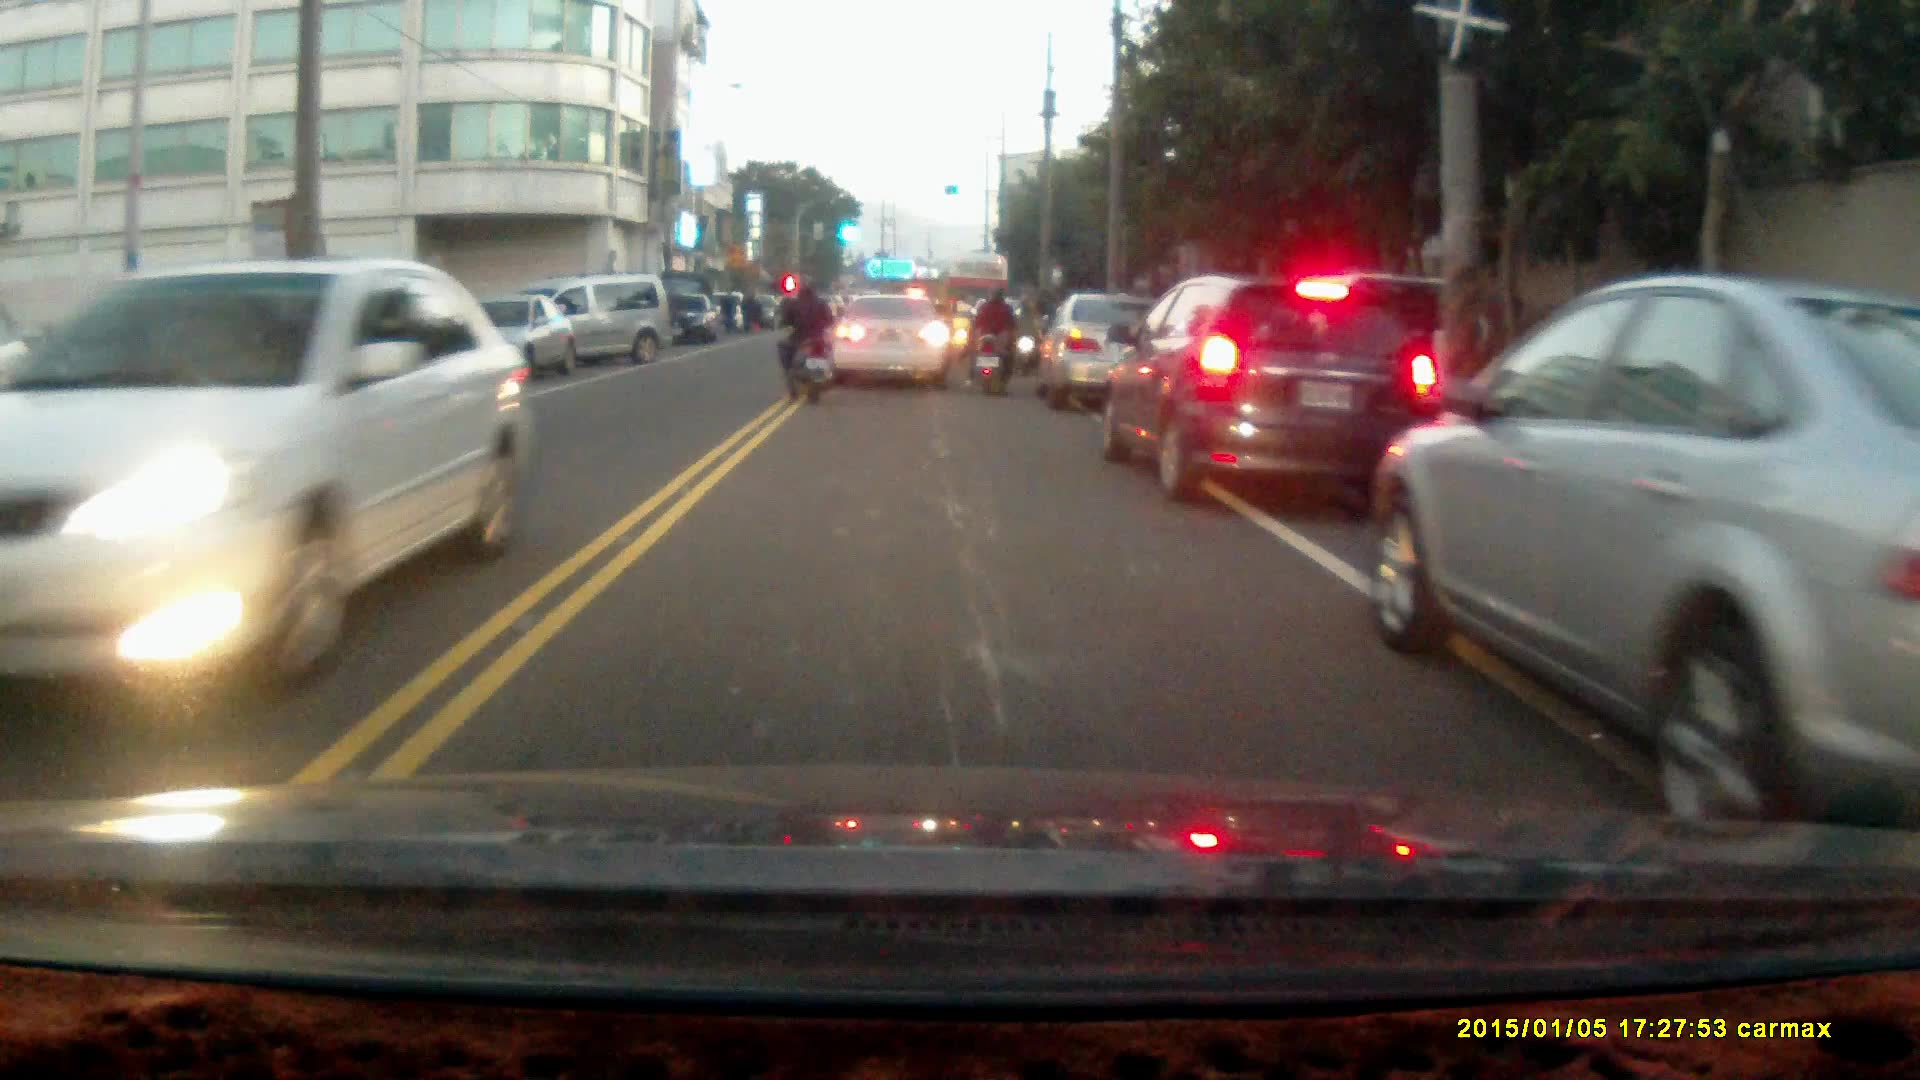rider: (774, 278, 834, 403), (965, 281, 1022, 397)
vehicle: (1381, 267, 1920, 826), (1, 256, 531, 692), (1093, 266, 1438, 501), (419, 290, 584, 387), (1041, 294, 1162, 411), (534, 274, 671, 370), (832, 289, 949, 394), (665, 293, 720, 345)
